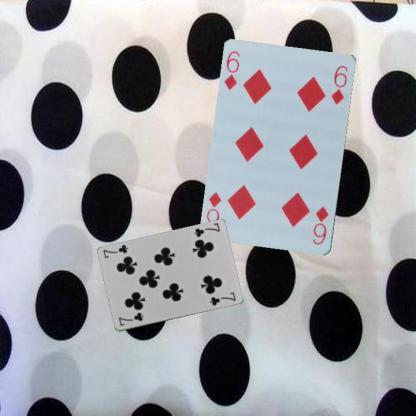6d: (221, 48, 242, 92), (310, 204, 330, 246)
7c: (191, 220, 221, 238), (116, 310, 144, 327)
